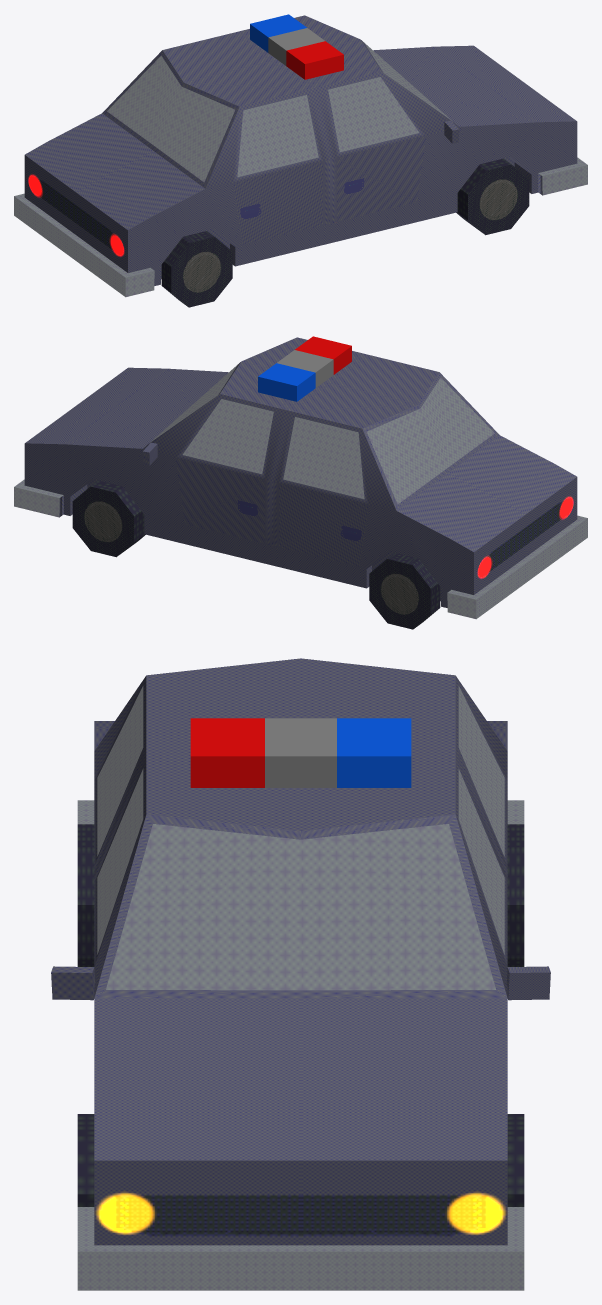
File: policecar.fbx
The picture shows the model from 3 angles, top to bottom: view 1: azimuth 30°, elevation 25°; view 2: azimuth 150°, elevation 25°; view 3: azimuth 270°, elevation 25°; orthographic projection. The views are drawn at different scales.
Parts seen in each view (by area): view 1: pCylinder69; view 2: pCylinder69; view 3: pCylinder69.
Part boxes in pixels (x1,y1,x2,y2): pCylinder69: (14,14,587,307); pCylinder69: (14,336,587,629); pCylinder69: (51,658,550,1290).
Bounding box in the file's own units: 4.78 × 1.85 × 2.24.
